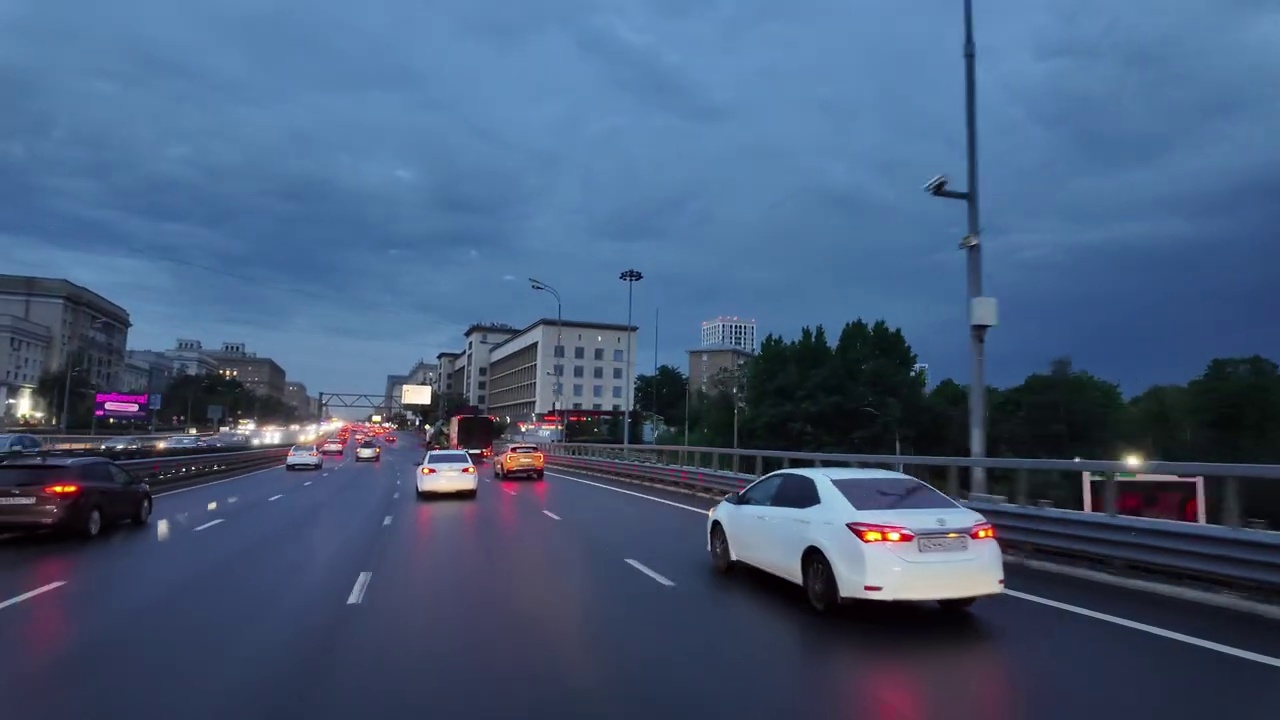apagada: (924, 175, 958, 205), (618, 264, 646, 287)
